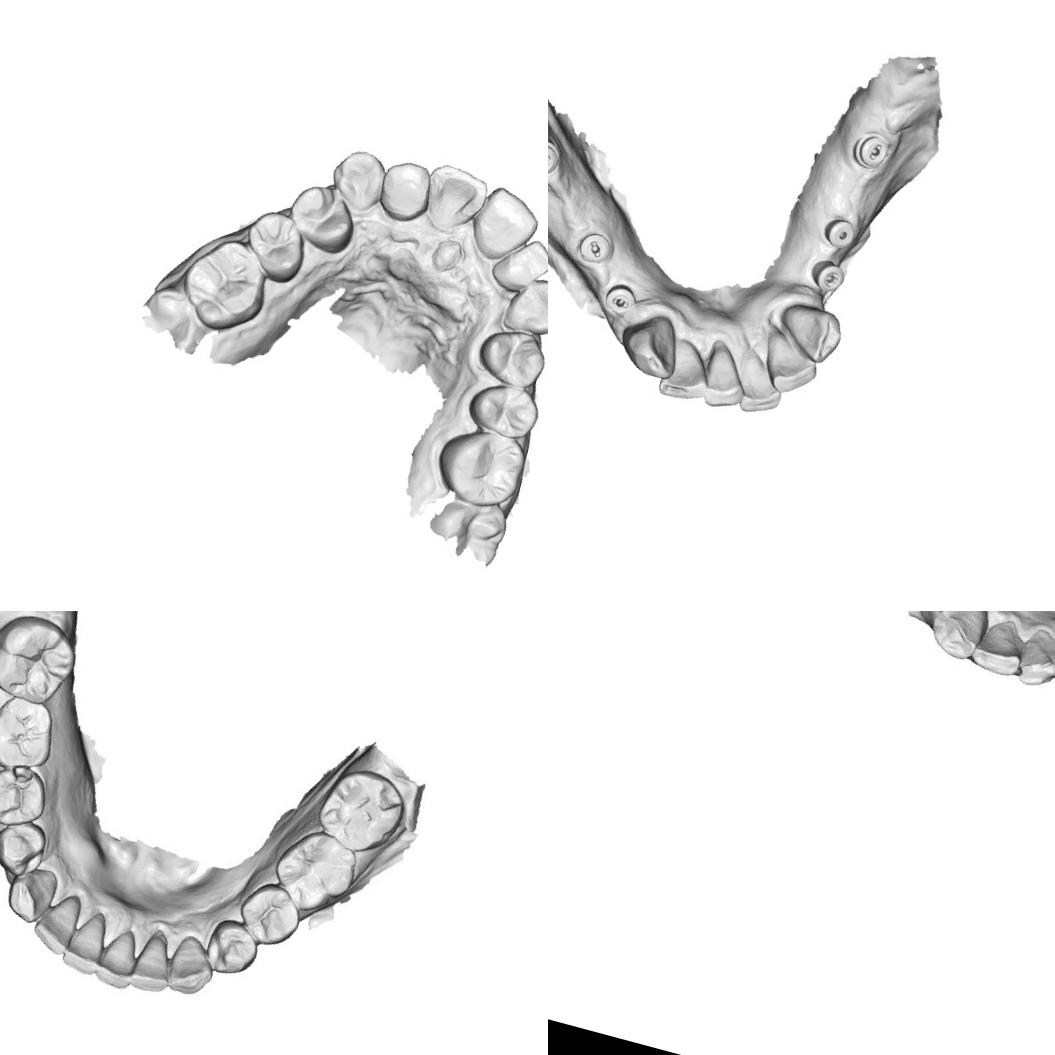canine: (613, 304, 689, 384), (768, 296, 846, 368), (323, 144, 391, 216), (921, 611, 995, 666), (162, 934, 218, 1004), (498, 270, 548, 344), (0, 863, 56, 928)
implant: (815, 206, 870, 260)
implant_minus: (849, 125, 901, 180), (572, 226, 618, 271), (598, 278, 642, 324), (548, 131, 565, 186)
implant_plus: (803, 253, 854, 302)
incisor: (463, 180, 545, 270), (415, 159, 492, 237), (752, 322, 826, 400), (726, 342, 794, 422), (373, 154, 438, 226), (654, 334, 718, 407), (966, 618, 1032, 686), (486, 229, 548, 299), (695, 340, 752, 414), (126, 926, 182, 999), (59, 906, 114, 975), (28, 887, 81, 958), (94, 929, 140, 992), (1014, 631, 1055, 697)
molar: (171, 228, 278, 340), (428, 419, 530, 516), (269, 822, 366, 921), (314, 764, 406, 856), (0, 611, 80, 711), (0, 689, 71, 779)
premolar: (235, 203, 314, 288), (281, 177, 363, 258), (462, 374, 544, 444), (471, 321, 548, 393), (238, 886, 300, 946), (0, 762, 48, 829), (204, 918, 256, 976), (0, 814, 47, 876)
